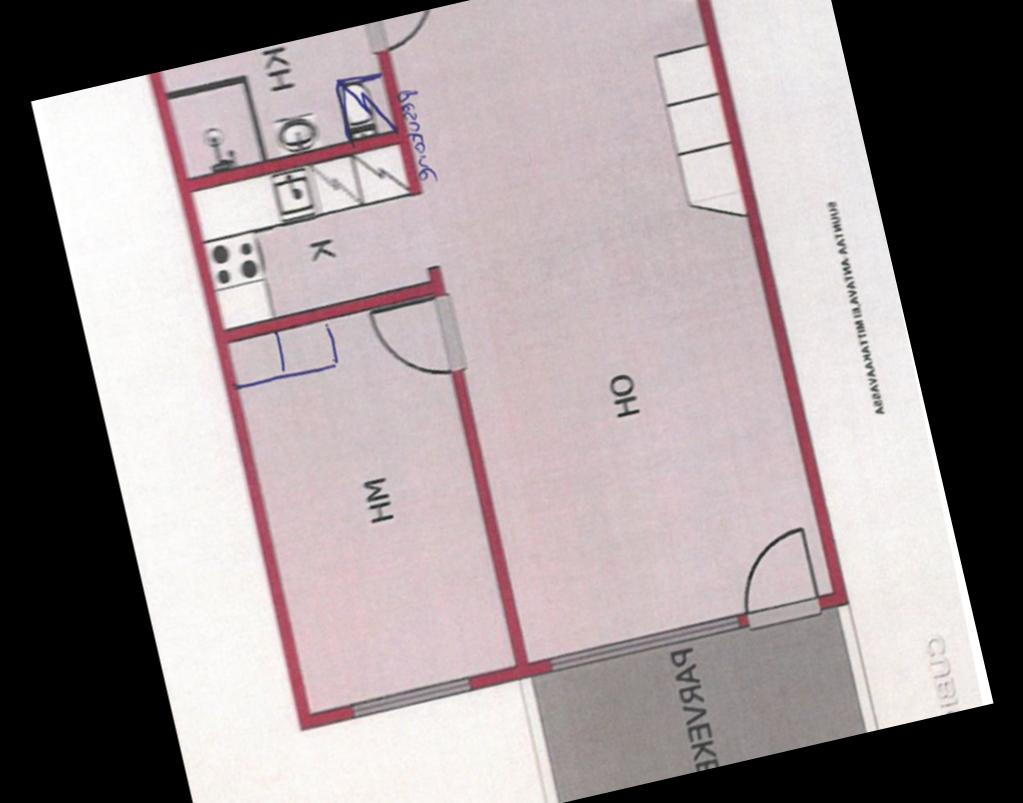door: (726, 520, 826, 632), (363, 289, 466, 391), (361, 6, 446, 56), (608, 0, 714, 17)
window: (542, 608, 748, 676), (340, 670, 480, 724)
